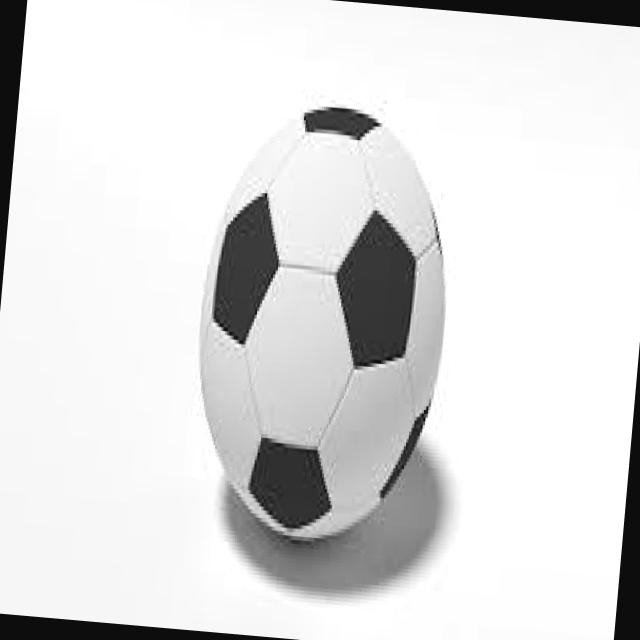Soccer Ball: (182, 101, 457, 547)
